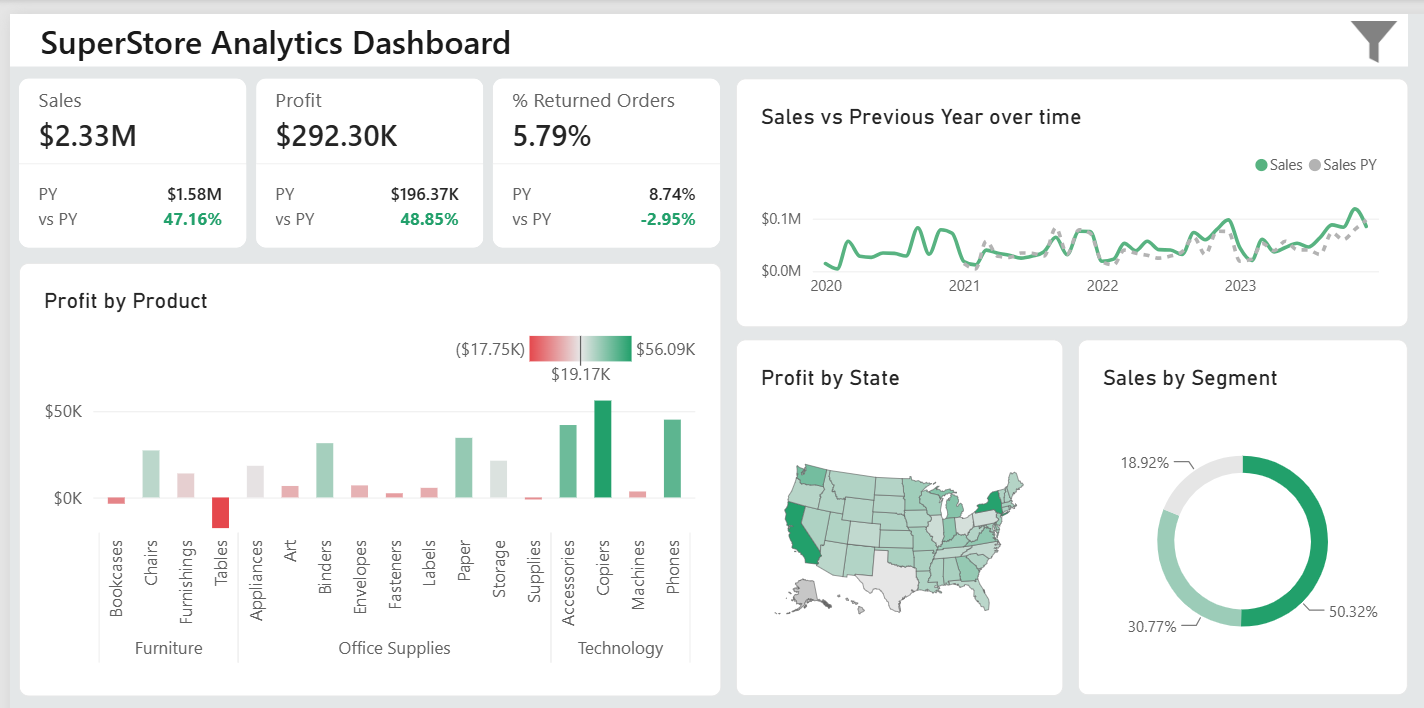

Layout of this report page (visuals, bound fields, positions):
{"tool":"powerbi","page":{"name":"Page 1","canvas":[1920,1080],"ordinal":0},"visuals":[{"type":"image","box":[1096.7,0,52.9,45.7],"z":0,"group":"g1"},{"type":"cardVisual","fields":{"Data":["Key Measures.Sales","Key Measures.Profit","Key Measures.% Returned Orders"]},"box":[7.7,52.9,577.9,139.4],"z":0},{"type":"shape","box":[0,0,1150.6,43.2],"z":1000},{"type":"lineChart","title":"Sales vs Previous Year over time","fields":{"Category":["Date Table.Start of month"],"Y":["Key Measures.Sales","Key Measures.Sales PY"]},"box":[597.5,53.1,553.1,204.9],"z":2000},{"type":"columnChart","title":"Profit by Product","fields":{"Category":["Orders.Category","Orders.Sub-Category"],"Y":["Key Measures.Profit"]},"box":[7.7,204.8,577.9,356.7],"z":3000},{"type":"shapeMap","title":"Profit by State","fields":{"Category":["Orders.State/Province"],"Value":["Key Measures.Profit"]},"box":[598.1,268.3,269.2,293.3],"z":4000},{"type":"donutChart","title":"Sales by Segment","fields":{"Category":["Orders.Segment"],"Y":["Key Measures.Sales"]},"box":[879,267.9,271.6,292.6],"z":5000},{"type":"group","id":"g1","title":"Group 1","box":[674.1,0,476.5,466.7],"z":6000}]}

Visuals, with their boxes on the page's 1920x1080 design canvas (x1, y1, x2, y2). These are canvas units, not pixel positions in the 1424x708 screenshot, which may show the page scaled, cropped or inside an application window:
image: <bbox>1097, 0, 1150, 46</bbox>
cardVisual - Key Measures.Sales x Key Measures.Profit: <bbox>8, 53, 586, 192</bbox>
shape: <bbox>0, 0, 1151, 43</bbox>
"Sales vs Previous Year over time" lineChart: <bbox>598, 53, 1151, 258</bbox>
"Profit by Product" columnChart: <bbox>8, 205, 586, 562</bbox>
"Profit by State" shapeMap: <bbox>598, 268, 867, 562</bbox>
"Sales by Segment" donutChart: <bbox>879, 268, 1151, 560</bbox>
"Group 1" group: <bbox>674, 0, 1151, 467</bbox>
